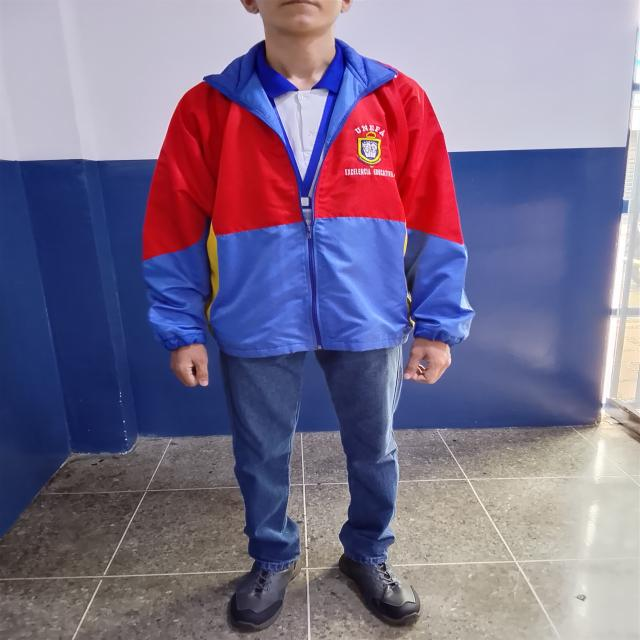chaqueta_unefa: (141, 37, 476, 351)
